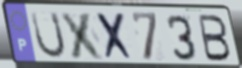3: (166, 13, 198, 62)
7: (131, 11, 160, 63)
B: (197, 13, 233, 63)
U: (29, 10, 68, 60)
X: (58, 11, 107, 62), (94, 11, 136, 62)
